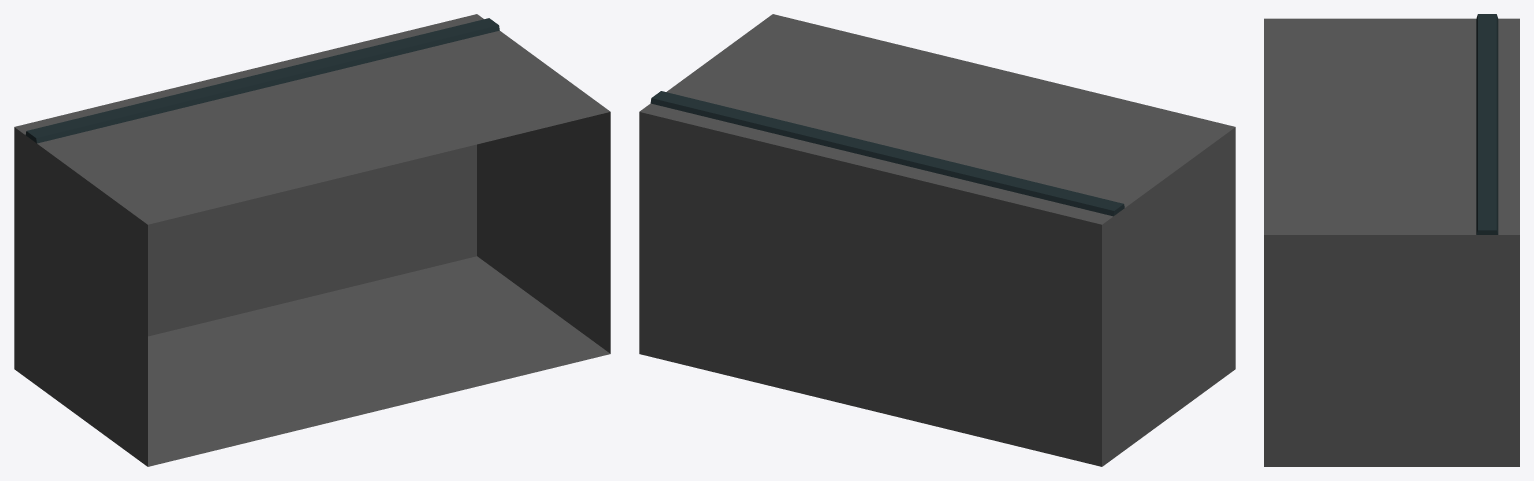
The model's file is SM_platform_6x3.fbx.
The picture shows the model from 3 angles, left to right: view 1: azimuth 30°, elevation 25°; view 2: azimuth 150°, elevation 25°; view 3: azimuth 270°, elevation 25°; orthographic projection. The views are drawn at different scales.
Parts seen in each view (by area): view 1: SM_platform_6x3; view 2: SM_platform_6x3; view 3: SM_platform_6x3.
Part boxes in pixels (x1=…): SM_platform_6x3: x1=14, y1=14, x2=610, y2=466; SM_platform_6x3: x1=639, y1=14, x2=1235, y2=466; SM_platform_6x3: x1=1264, y1=14, x2=1519, y2=466.
Bounding box in the file's own units: 600 × 306 × 300.
Materials: 1 (1 with a texture image).
